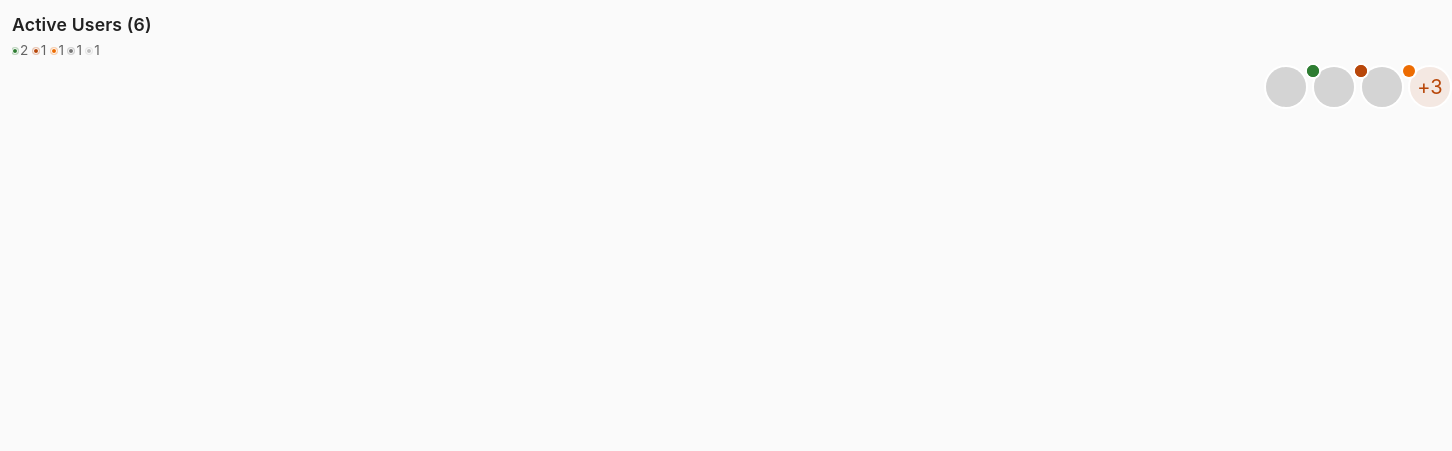
Test: ActiveUsersList › User Details Popover › should show popover when clicking overflow avatar
This screenshot has width=1452, height=451.
What coordinates should you click on to do the following:
click the text "+3"
I would click on:
 (1430, 87)
Its box is [1408,65,1451,109].
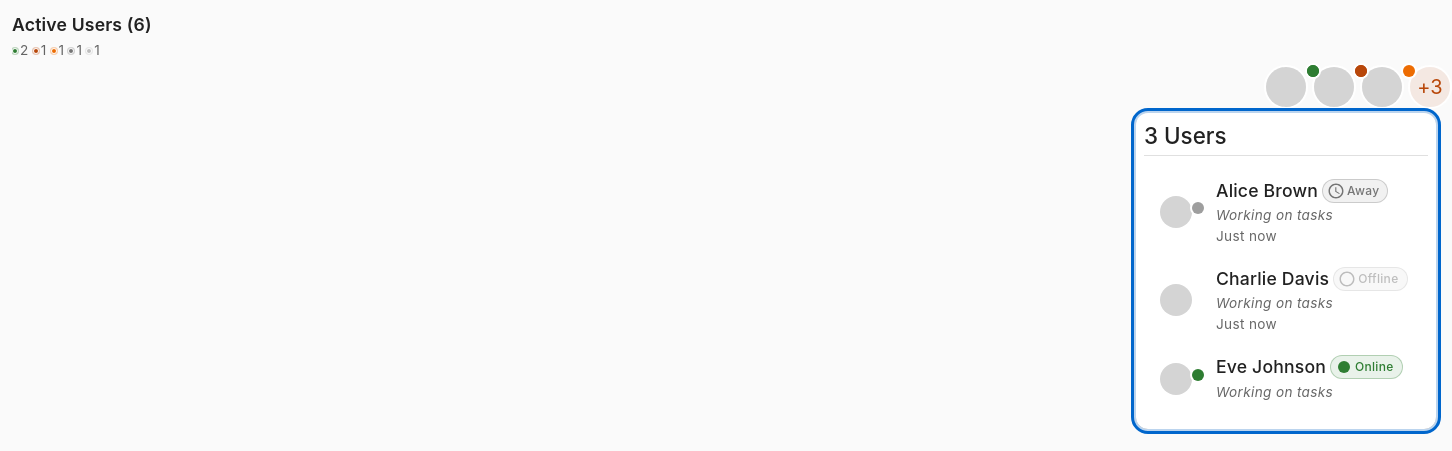
Expected: the heading "3 Users" is shown, [1144,122,1226,149]
